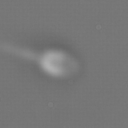normal: (1, 38, 39, 65)
